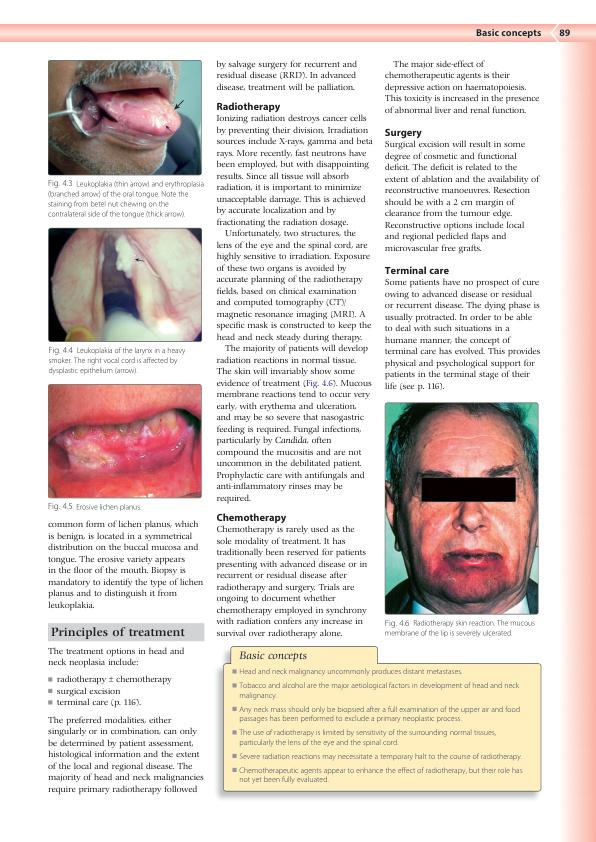caption: (47, 178, 205, 220), (48, 346, 187, 376), (383, 618, 536, 639), (47, 502, 142, 512), (238, 650, 308, 662)
header: (475, 28, 542, 39)
image: (384, 401, 540, 615), (47, 59, 203, 176), (47, 227, 202, 343), (47, 384, 202, 499)
list: (231, 667, 534, 787), (47, 674, 173, 709)
section-heading: (50, 625, 186, 640)
sub-section-heading: (216, 512, 287, 524), (216, 101, 282, 113), (384, 265, 450, 275), (383, 127, 423, 139)
text: (216, 113, 374, 505), (383, 277, 541, 393), (383, 140, 541, 255), (216, 524, 370, 640), (47, 519, 205, 612), (47, 715, 206, 796), (383, 59, 541, 115), (216, 58, 358, 94), (46, 646, 186, 669)
